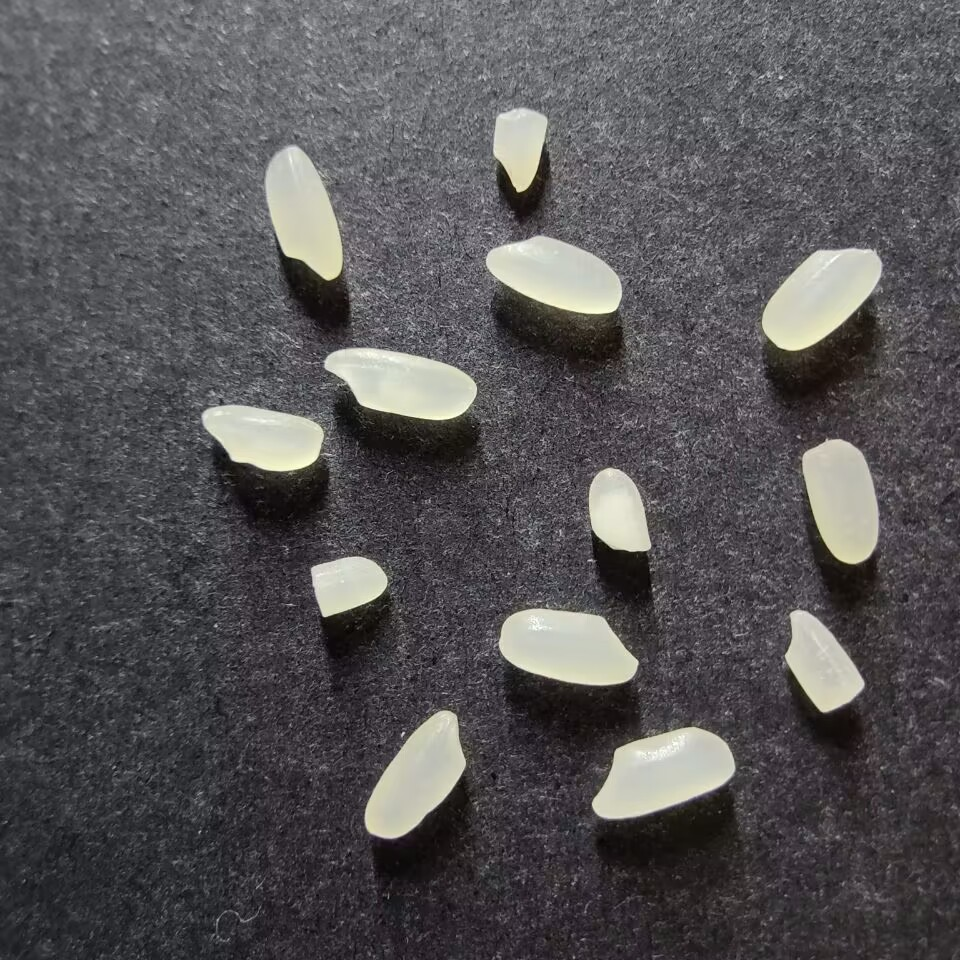broken: (783, 609, 865, 712), (588, 467, 651, 552), (310, 556, 387, 617), (492, 108, 547, 192)
rice: (591, 726, 734, 819), (363, 710, 466, 839), (761, 247, 883, 351), (323, 347, 477, 420), (484, 235, 622, 315), (498, 608, 639, 686), (264, 145, 342, 281), (801, 438, 879, 564), (201, 404, 322, 472)
